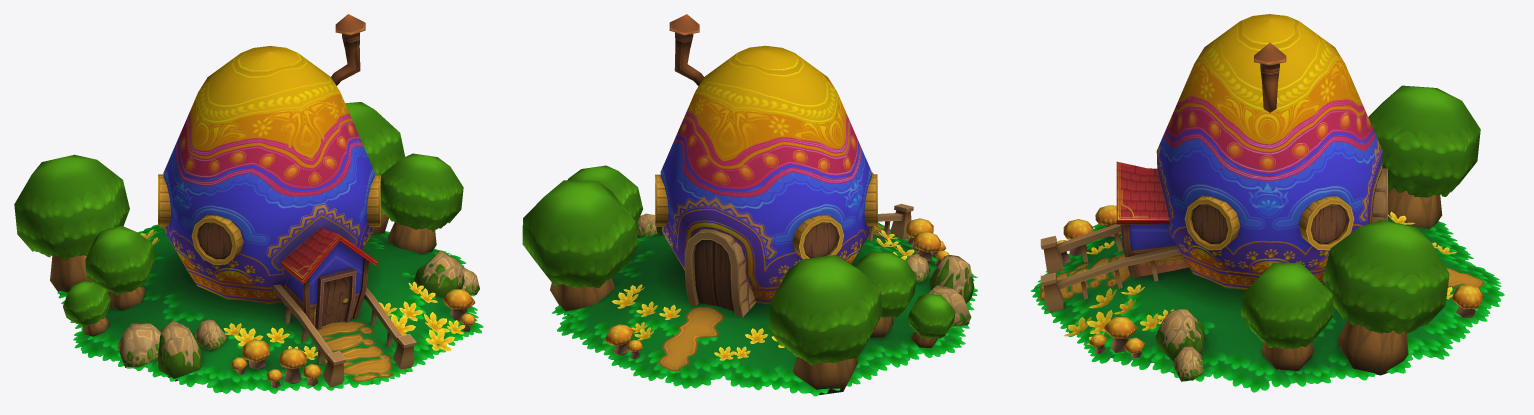
File: Egg_House_01.FBX
3 renders of one model, left to right at view 1: azimuth 30°, elevation 25°; view 2: azimuth 150°, elevation 25°; view 3: azimuth 270°, elevation 25°, orthographic. The views are drawn at different scales.
Visible parts, largest first — view 1: Egg_House_01; view 2: Egg_House_01; view 3: Egg_House_01.
Boxes of the visible parts, x1,y1,x2,y2 form: Egg_House_01: (14, 14, 483, 393); Egg_House_01: (522, 14, 977, 396); Egg_House_01: (1030, 14, 1504, 392).
Size of the model in its own units: 467 by 307 by 467.
